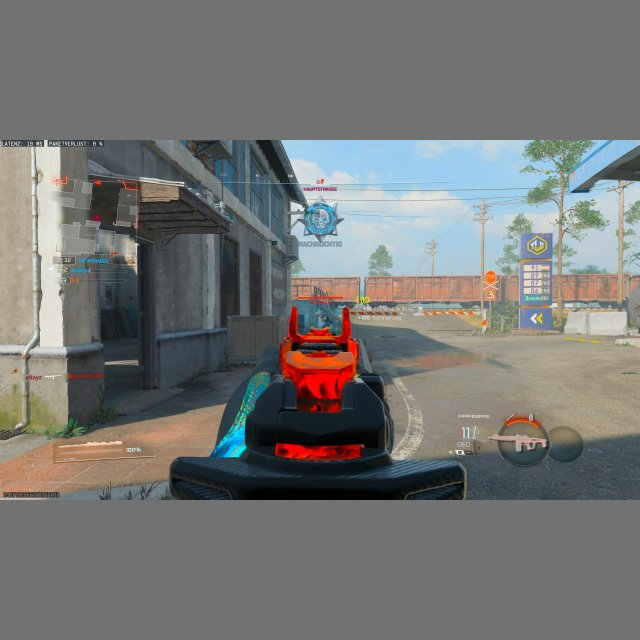player: (316, 306, 331, 331)
